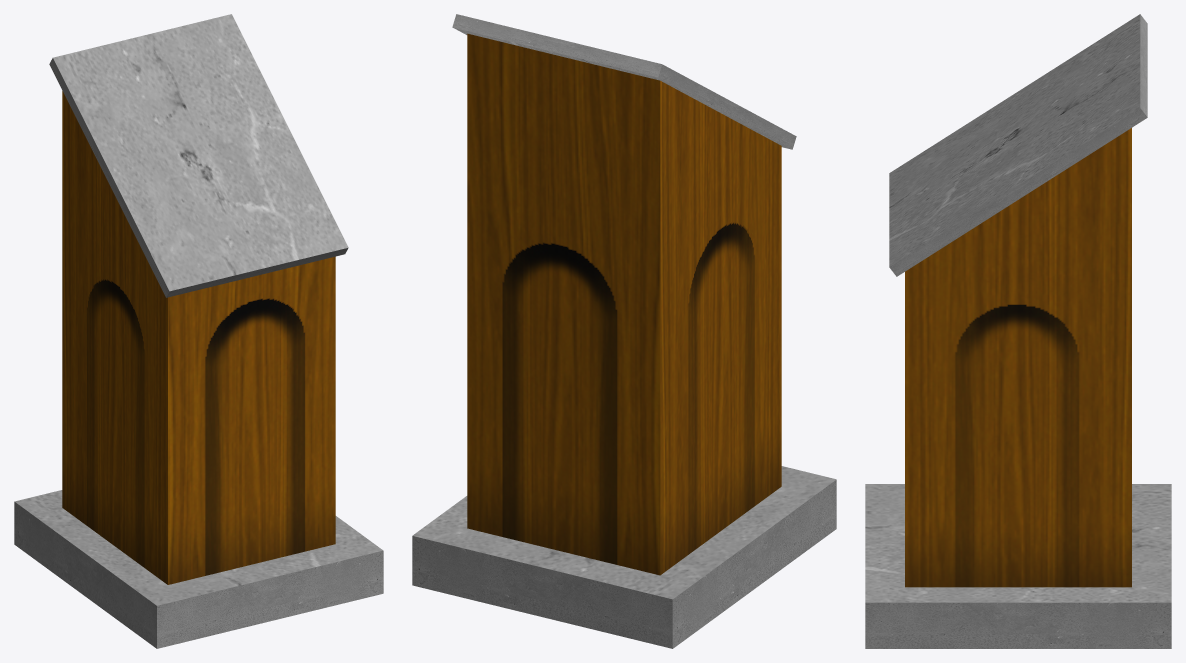
Rendered from Podium.fbx.
3 views of the same model, side by side, from view 1: azimuth 30°, elevation 25°; view 2: azimuth 150°, elevation 25°; view 3: azimuth 270°, elevation 25° (orthographic). The views are drawn at different scales.
Visible parts, largest first — view 1: Podium; view 2: Podium; view 3: Podium.
Part boxes in pixels (x1,y1,x2,y2): Podium: [14, 14, 383, 648]; Podium: [412, 14, 836, 648]; Podium: [865, 14, 1171, 648].
Size of the model in its own units: 2.88 by 5.97 by 3.14.
